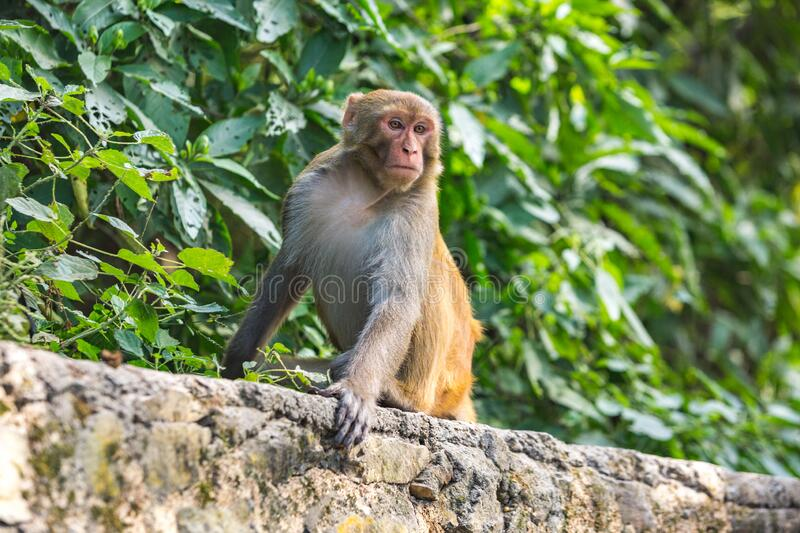monkey: (207, 79, 490, 453)
